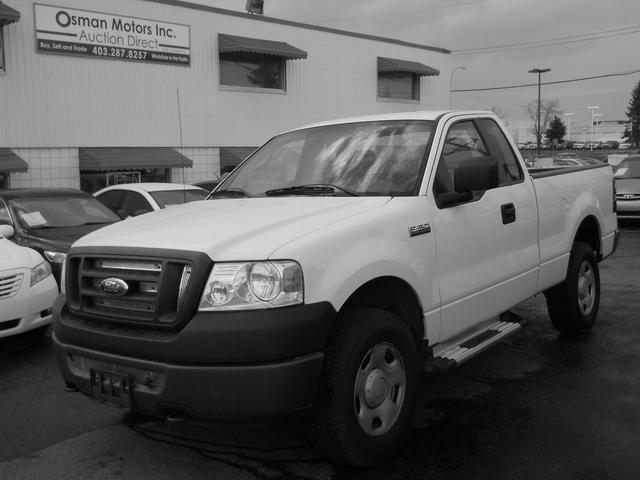car: (51, 105, 621, 446)
